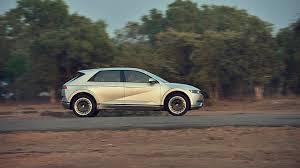Honda Ioniq: (58, 61, 207, 126)
